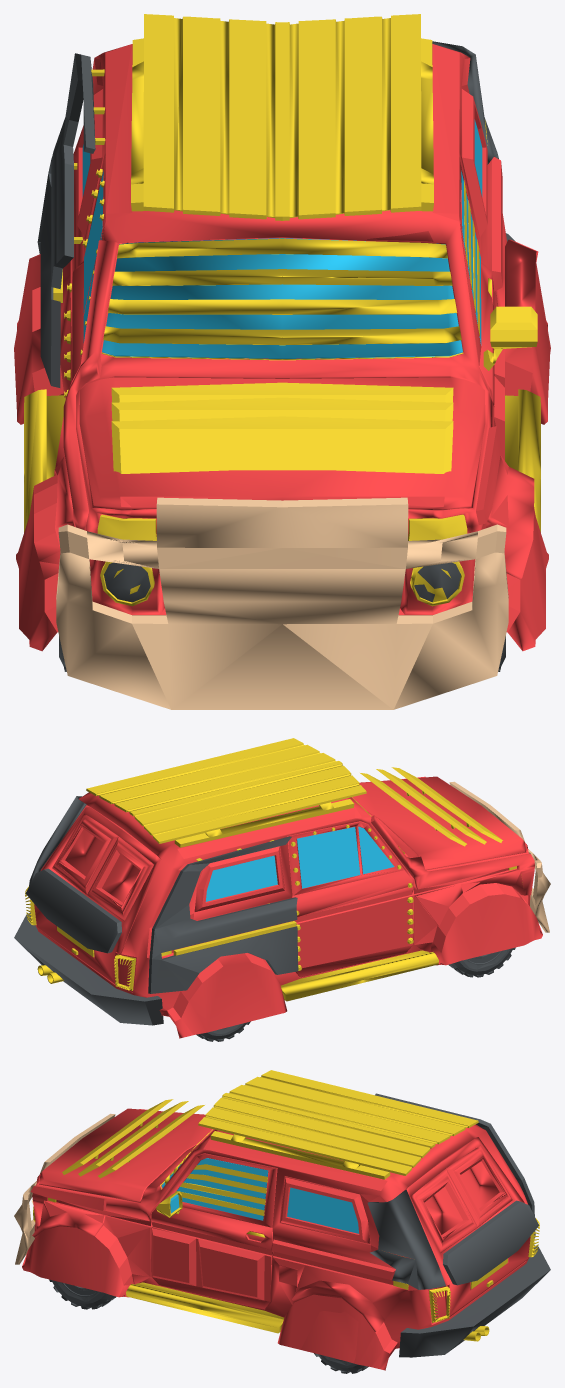
Rendered from Toy158.fbx.
3 renders of one model, top to bottom at view 1: azimuth 30°, elevation 25°; view 2: azimuth 150°, elevation 25°; view 3: azimuth 270°, elevation 25°, orthographic. The views are drawn at different scales.
Parts seen in each view (by area): view 1: Toy158; view 2: Toy158; view 3: Toy158.
Boxes of the visible parts, x1,y1,x2,y2 form: Toy158: (14, 14, 550, 709); Toy158: (14, 738, 550, 1041); Toy158: (14, 1070, 550, 1373).
Size of the model in its own units: 0.1766 by 0.0845 by 0.2123.
